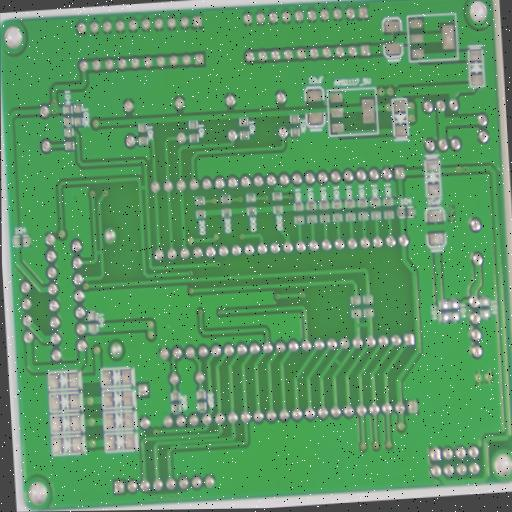short_circuit: (352, 318, 377, 333), (331, 355, 347, 370), (174, 438, 187, 453), (93, 247, 106, 261), (137, 181, 150, 194)
